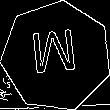M_S: (31, 29, 82, 84)
